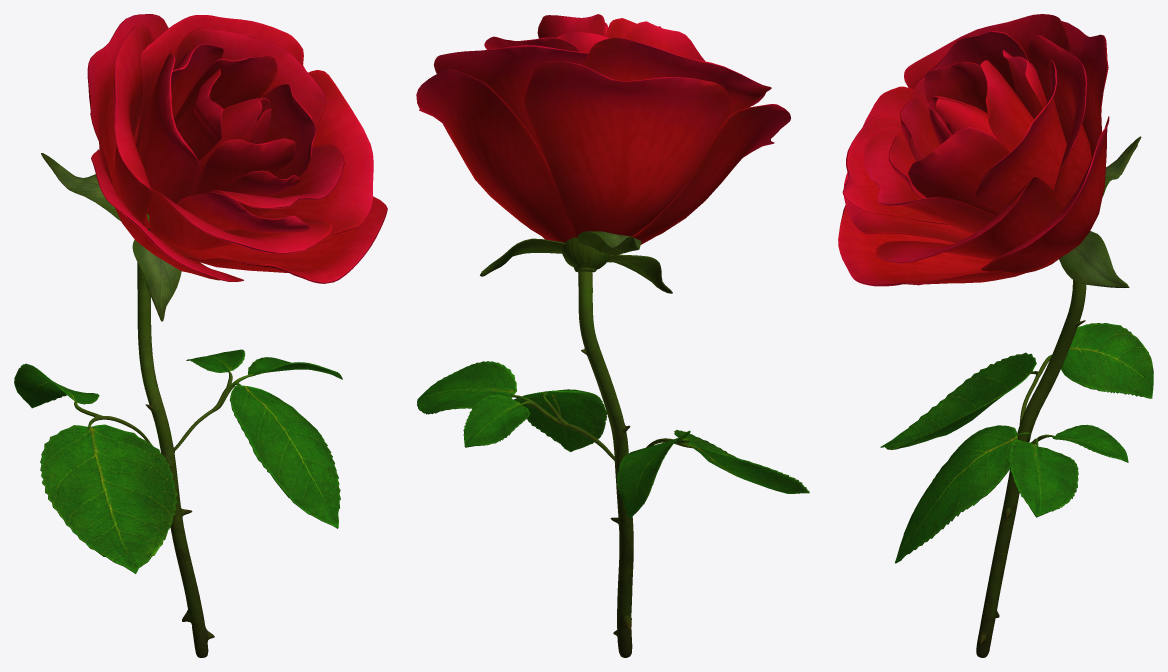
Rendered from rosaa.glb.
3 views of the same model, side by side, from view 1: azimuth 30°, elevation 25°; view 2: azimuth 150°, elevation 25°; view 3: azimuth 270°, elevation 25° (orthographic). The views are drawn at different scales.
Visible parts, largest first — view 1: node_id30; view 2: node_id30; view 3: node_id30.
Boxes of the visible parts, x1,y1,x2,y2 form: node_id30: (14, 14, 387, 657); node_id30: (416, 14, 809, 657); node_id30: (838, 14, 1153, 657).
Bounding box in the file's own units: 0.2171 × 0.3857 × 0.1766.
Materials: 1 (1 with a texture image).
